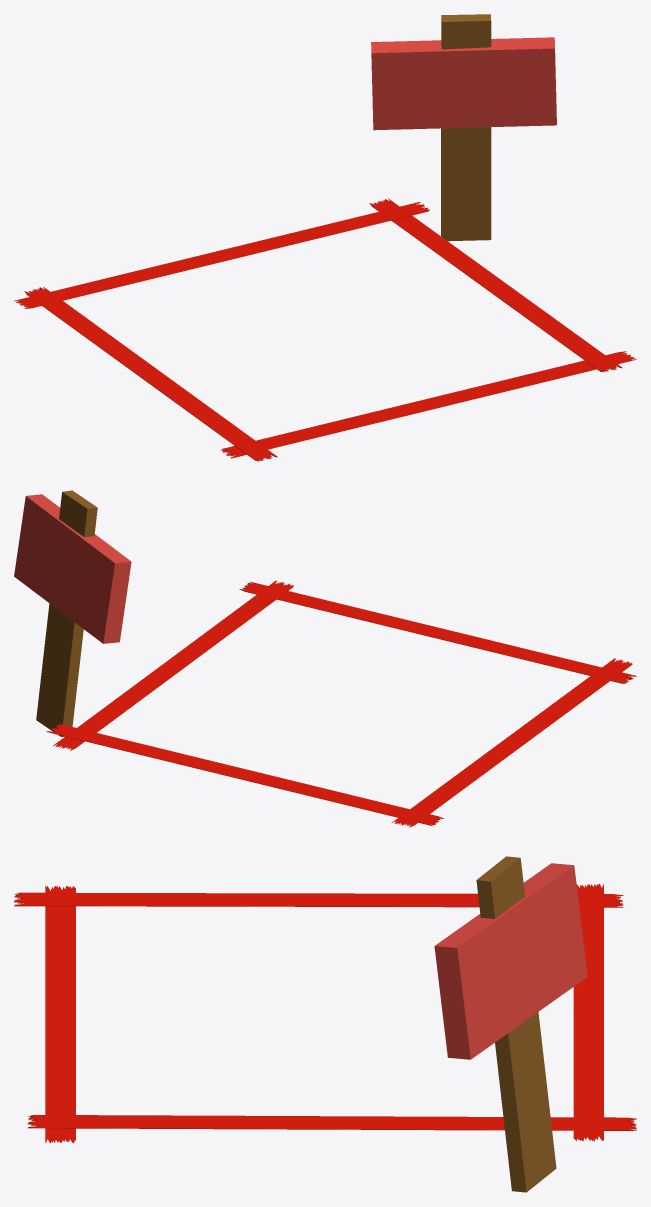
File: DangerAsset.glb
3 renders of one model, top to bottom at view 1: azimuth 30°, elevation 25°; view 2: azimuth 150°, elevation 25°; view 3: azimuth 270°, elevation 25°, orthographic. The views are drawn at different scales.
Visible parts, largest first — view 1: Plane.004; view 2: Plane.004; view 3: Plane.004.
Part boxes in pixels (box(x1,y1,x2,y2)): Plane.004: box(14, 14, 636, 461); Plane.004: box(14, 490, 636, 827); Plane.004: box(14, 856, 636, 1192).
Bounding box in the file's own units: 2.97 × 1.35 × 2.51.
